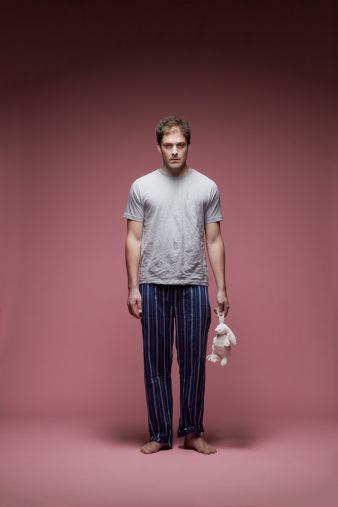em pe: (120, 95, 231, 477)
